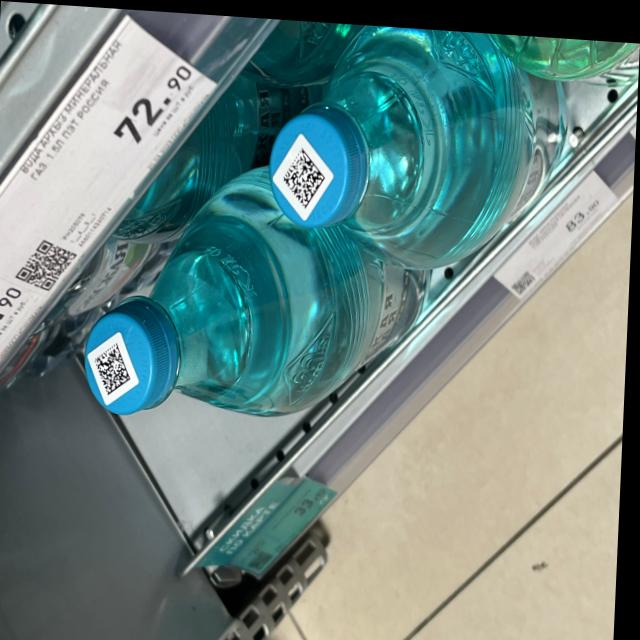datamatrix: (284, 143, 328, 206), (97, 341, 135, 395)
qrcode: (17, 237, 80, 292)
